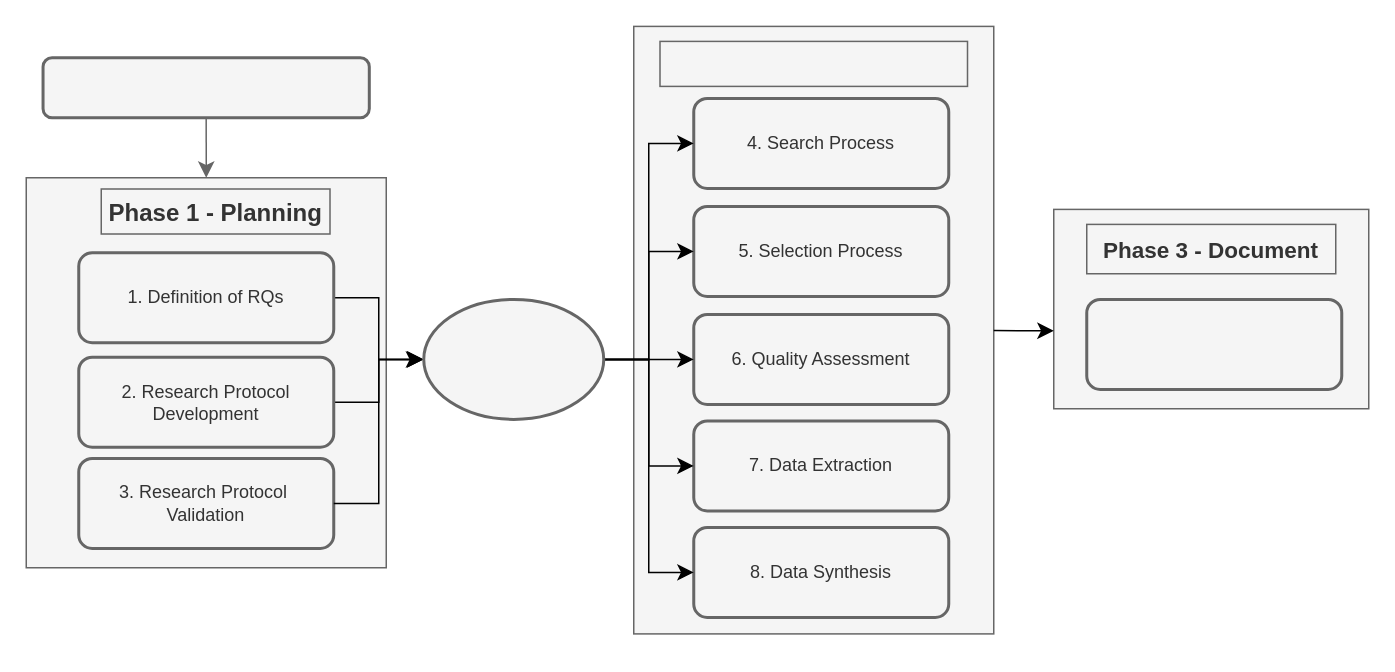
Image size: 1395x672. Some labels were removed from this diagram. Here are the shapes that lost their labels. From the top down, the box of each, then its label:
(658, 40, 968, 86): Phase 2 - Review Process
(41, 56, 370, 118): 0. Literature Review Justification
(422, 297, 604, 420): Search Protocol
(1084, 297, 1342, 390): 9. Documentation
